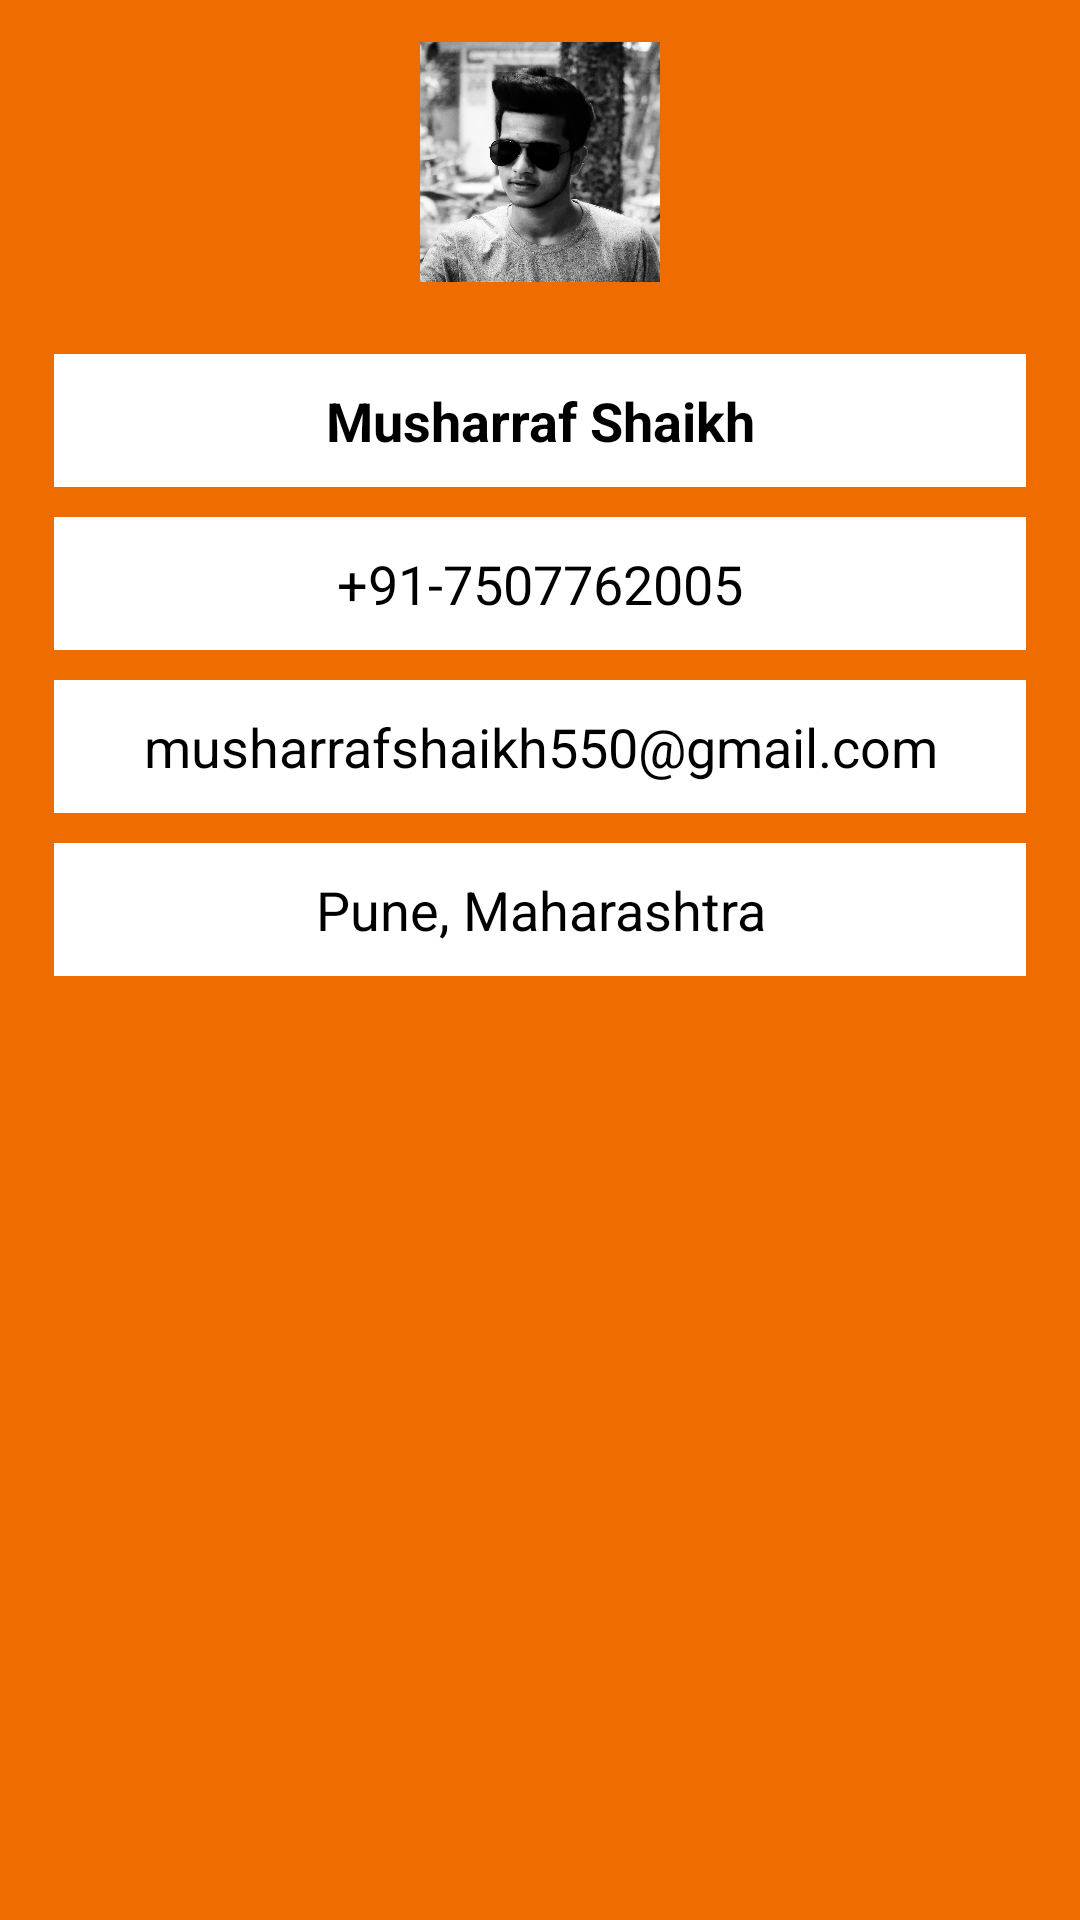

Where to tap for icons on this 1080 × 1920 app screen, as (x=x, y=y):
mushie profile: (x=540, y=162)
